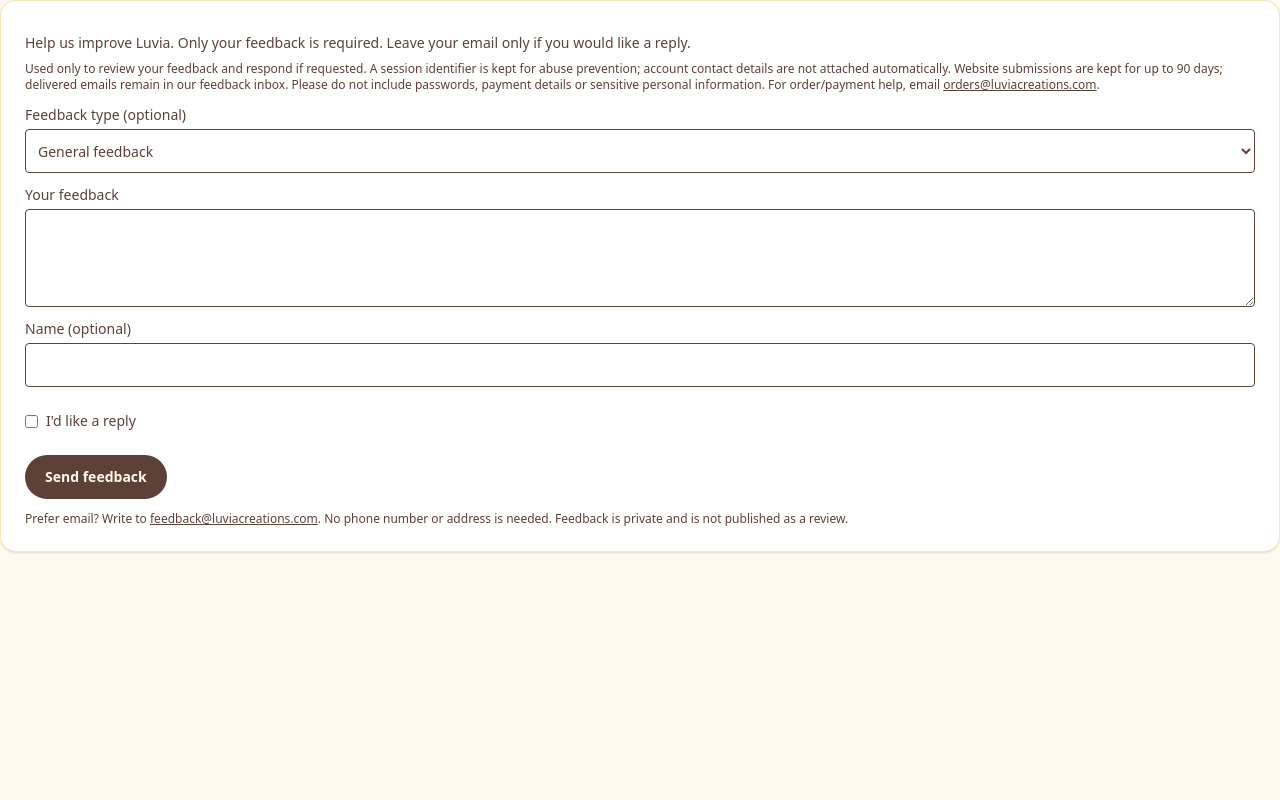
Test: shows sent confirmation after the service confirms sending and clears the form
Type "Please add colour options." into the text box labelled "Your feedback" at (640, 258), box 25,209 -> 1255,307
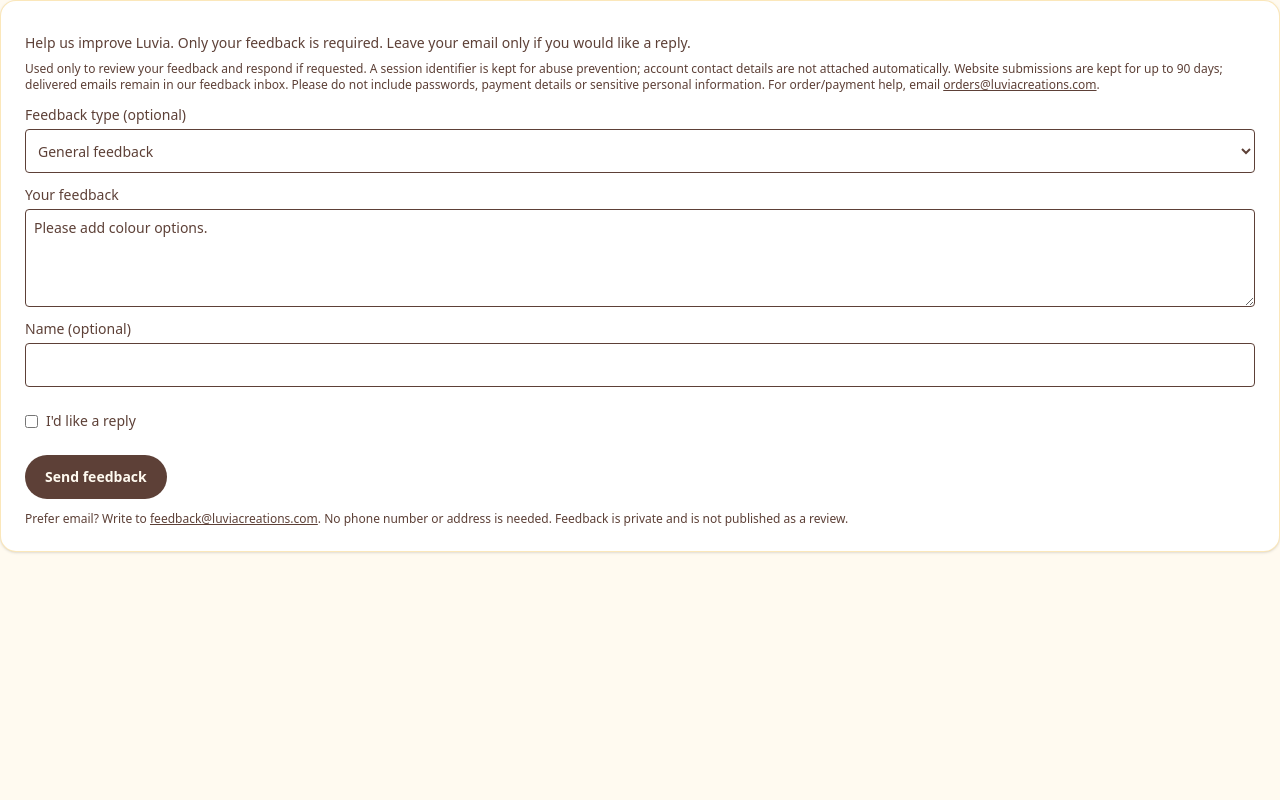
Click the button "Send feedback" at (96, 477), box 25,455 -> 167,499
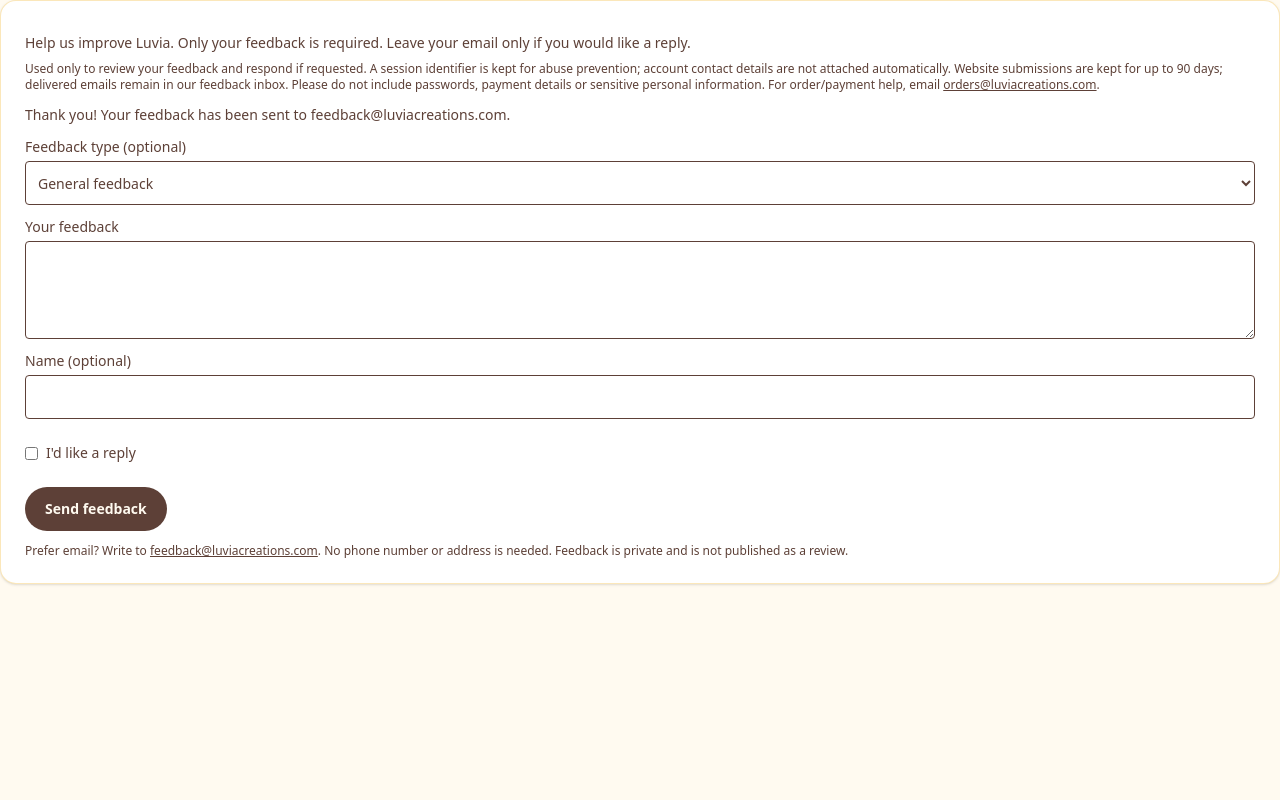
Expected: the message shows "sent to feedback@luviacreations.com", 25,105 -> 510,124
Expected: the text box labelled "Your feedback" is empty, 25,241 -> 1255,339
